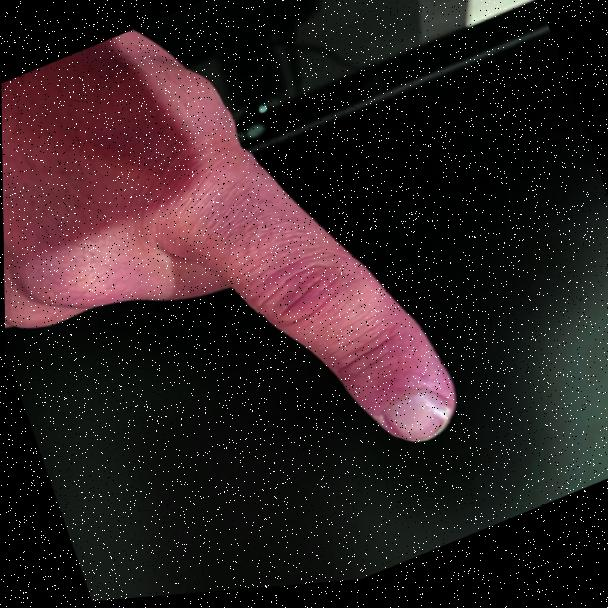one: (0, 0, 479, 591)
